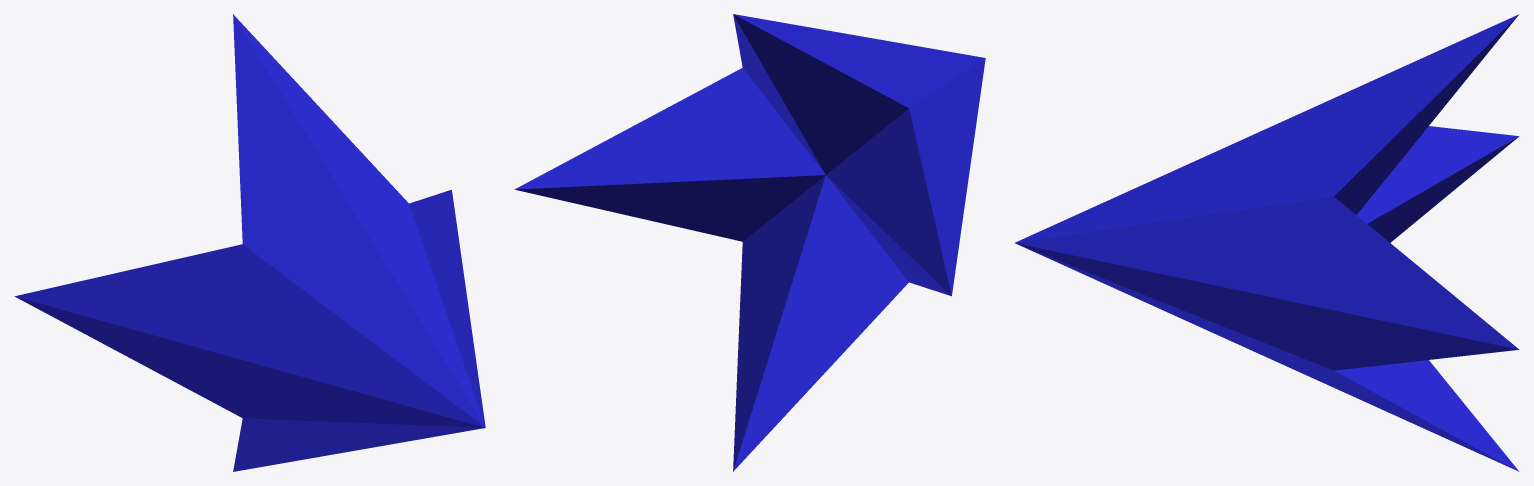
The model's file is HomingEnemyBullet.obj.
3 renders of one model, left to right at view 1: azimuth 30°, elevation 25°; view 2: azimuth 150°, elevation 25°; view 3: azimuth 270°, elevation 25°, orthographic.
Parts seen in each view (by area): view 1: 円錐; view 2: 円錐; view 3: 円錐.
Part boxes in pixels (x1=…): 円錐: x1=14, y1=14, x2=485, y2=471; 円錐: x1=514, y1=14, x2=985, y2=471; 円錐: x1=1015, y1=14, x2=1519, y2=471.
Size of the model in its own units: 2 by 2 by 2.
Materials: 1 (1 with a texture image).
